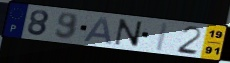2: (176, 25, 203, 56)
8: (27, 9, 51, 37)
9: (54, 12, 79, 41)
A: (81, 16, 114, 46)
I: (154, 21, 172, 53)
N: (114, 18, 144, 49)
